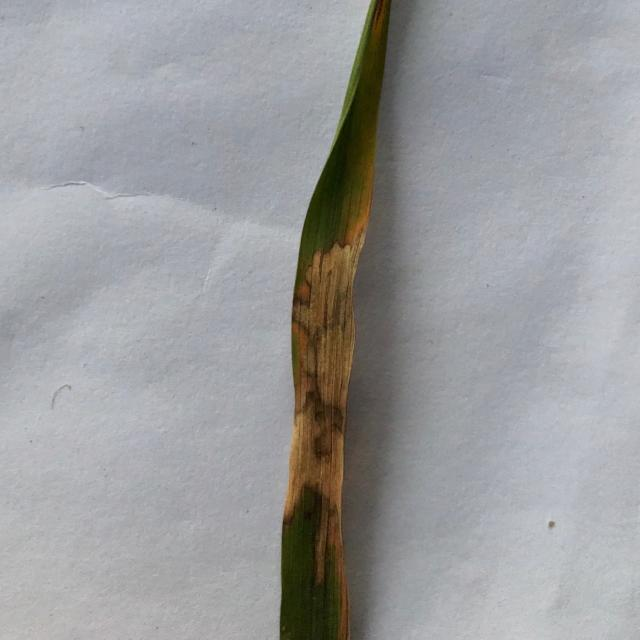leaf blight: (280, 231, 367, 531), (313, 501, 351, 640), (366, 0, 389, 49)
